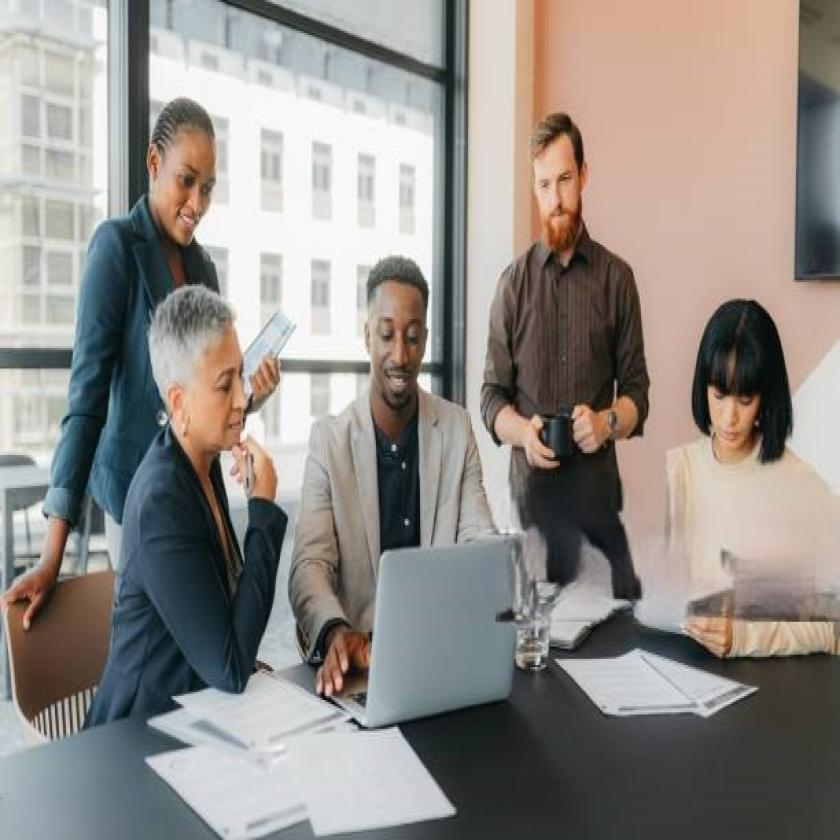Sin_casco: (146, 278, 259, 466), (693, 288, 790, 494), (140, 87, 226, 264), (362, 246, 435, 426), (524, 104, 592, 258)
